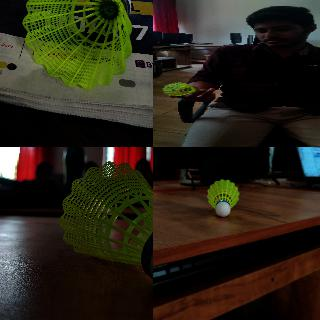shuttlecock: (58, 162, 152, 293), (22, 0, 133, 90), (207, 179, 239, 217), (161, 82, 202, 95)
